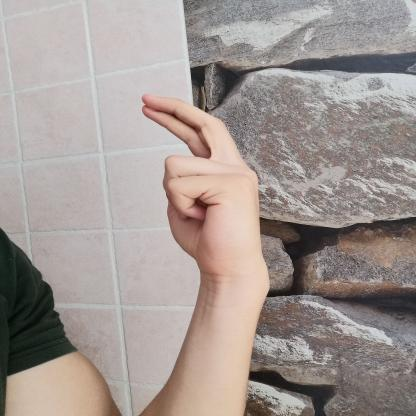ZAY: (130, 83, 275, 285)
